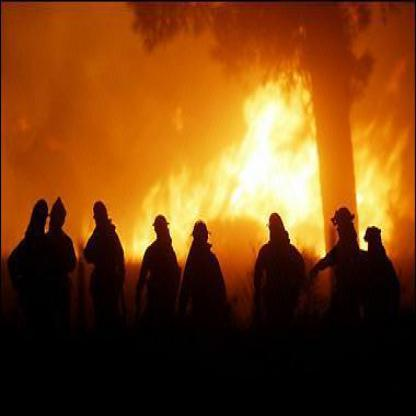fire: (146, 86, 327, 235), (352, 126, 403, 243)
